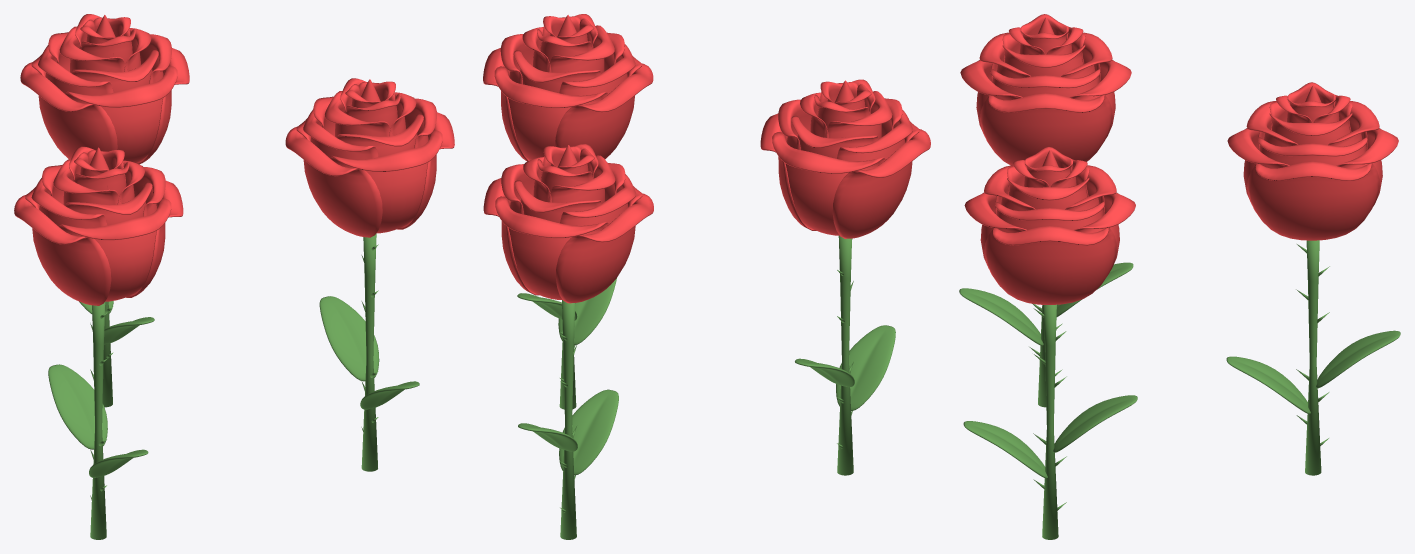
File: Flower_Rose.glb
3 views of the same model, side by side, from view 1: azimuth 30°, elevation 25°; view 2: azimuth 150°, elevation 25°; view 3: azimuth 270°, elevation 25° (orthographic).
Visible parts, largest first — view 1: Rose.001; view 2: Rose.001; view 3: Rose.001.
Part boxes in pixels (bbox=[...]): Rose.001: bbox=[14, 14, 454, 539]; Rose.001: bbox=[483, 14, 930, 539]; Rose.001: bbox=[959, 14, 1400, 539].
Bounding box in the file's own units: 4.13 × 3.63 × 3.75.
